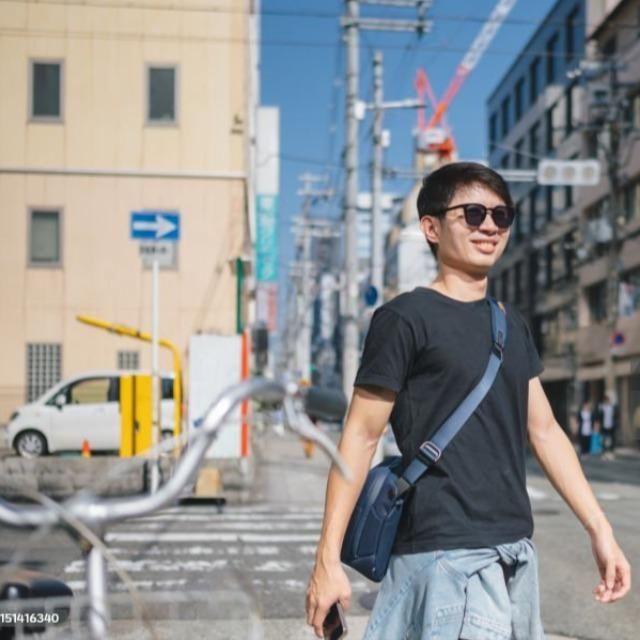Sin_Casco_Mascarrilla: (415, 164, 515, 276)
Sin_Chaleco: (362, 288, 541, 541)
